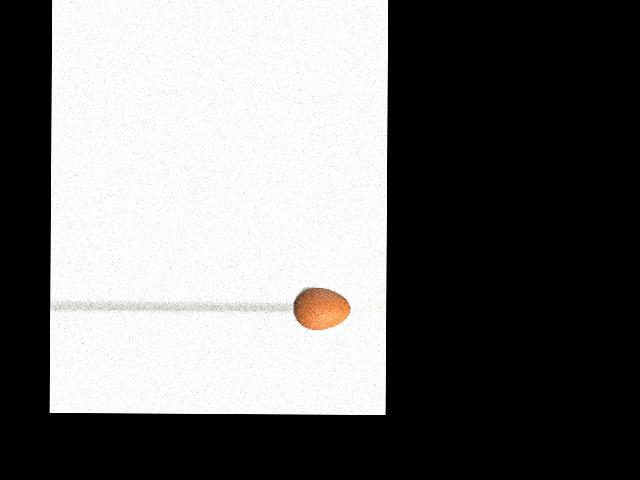egg: (293, 287, 349, 330)
